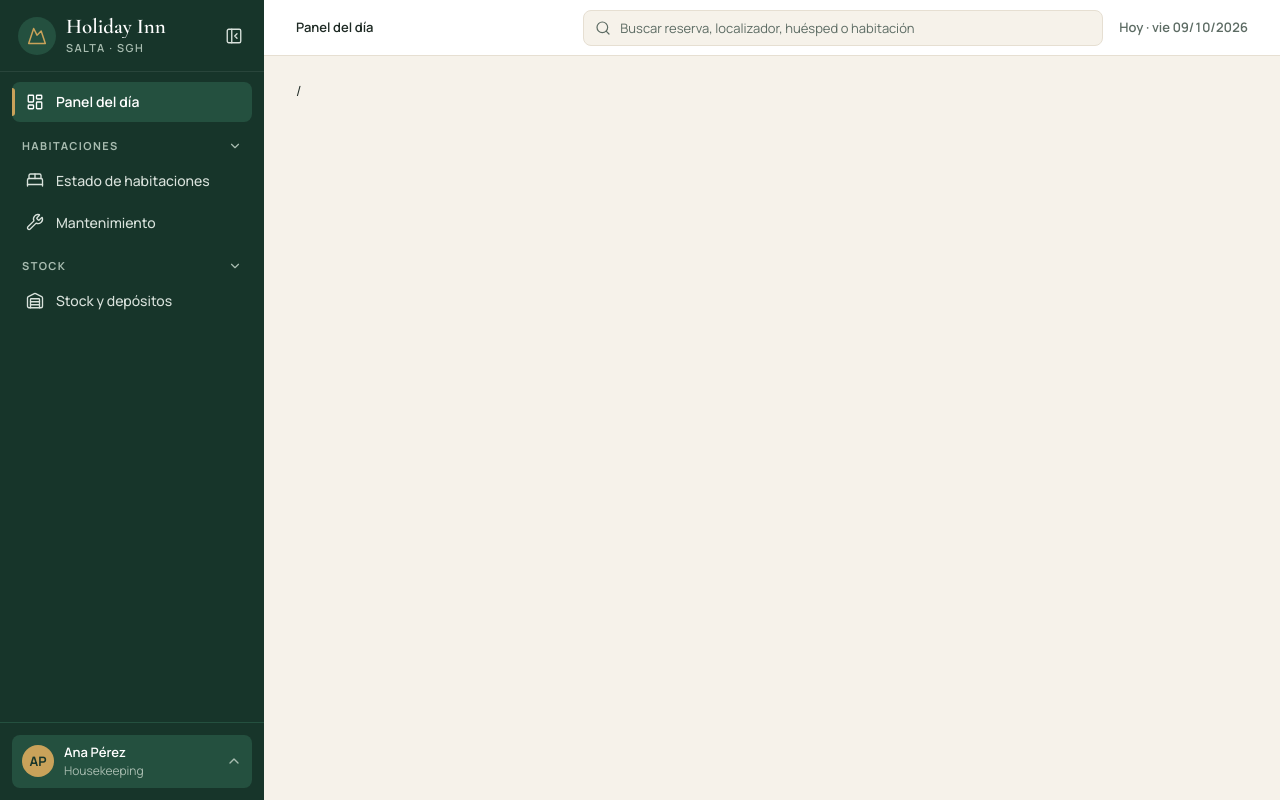
Test: Layout — tarjeta de usuario y menú de cuenta › se cierra con Escape y con click afuera
Click the button "AP Ana Pérez Housekeeping" at (132, 761), box [12,734,252,788]
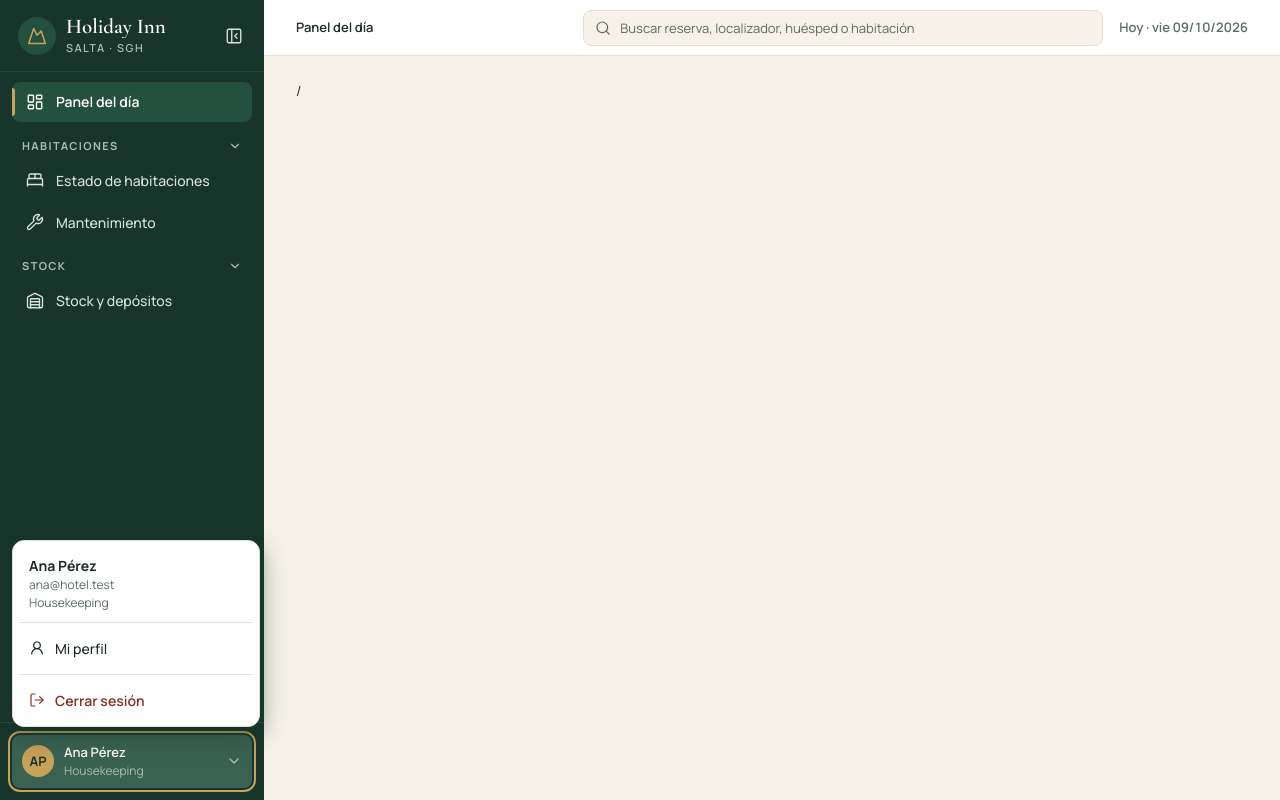
Press Escape
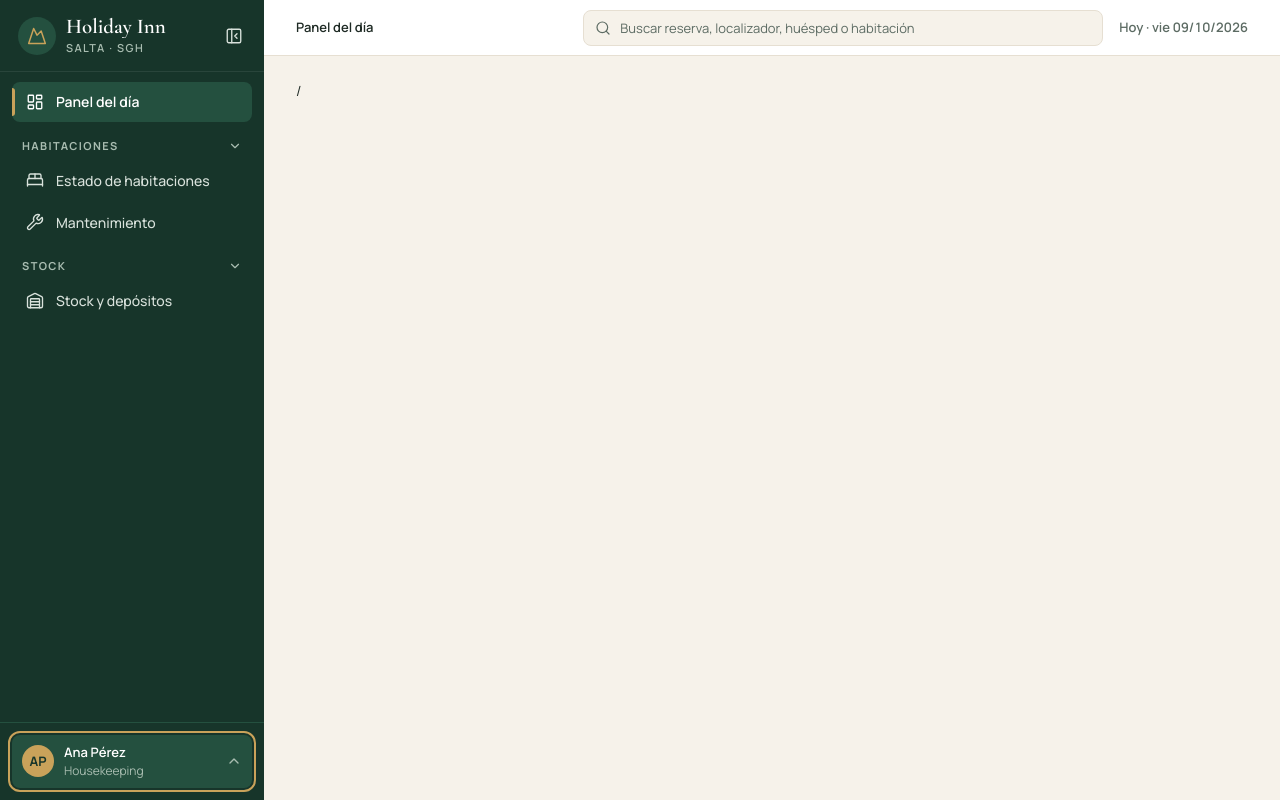
Now the menu is gone
Click the button "AP Ana Pérez Housekeeping" at (132, 761), box [12,734,252,788]
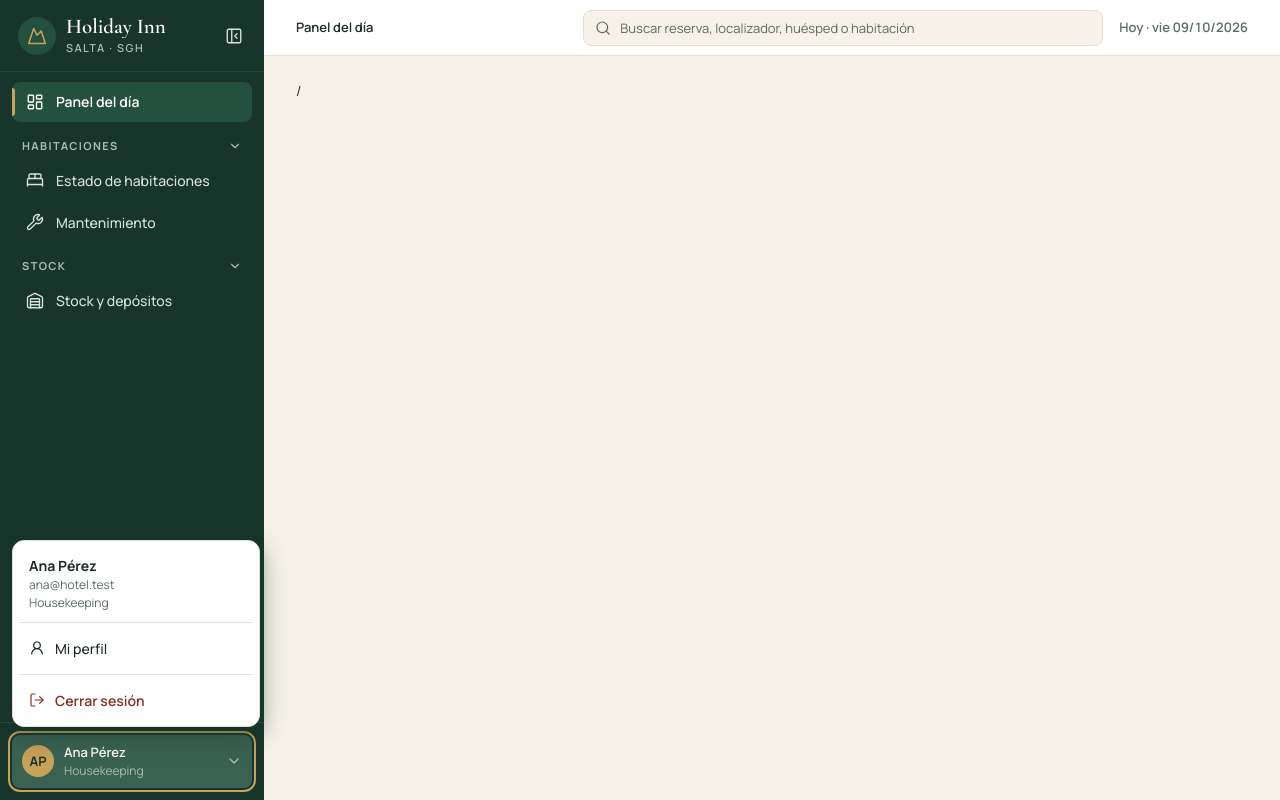
Now the menu is shown, box [12,540,260,726]
Click the text with test id "ubicacion" at (299, 90), box [296,81,301,100]
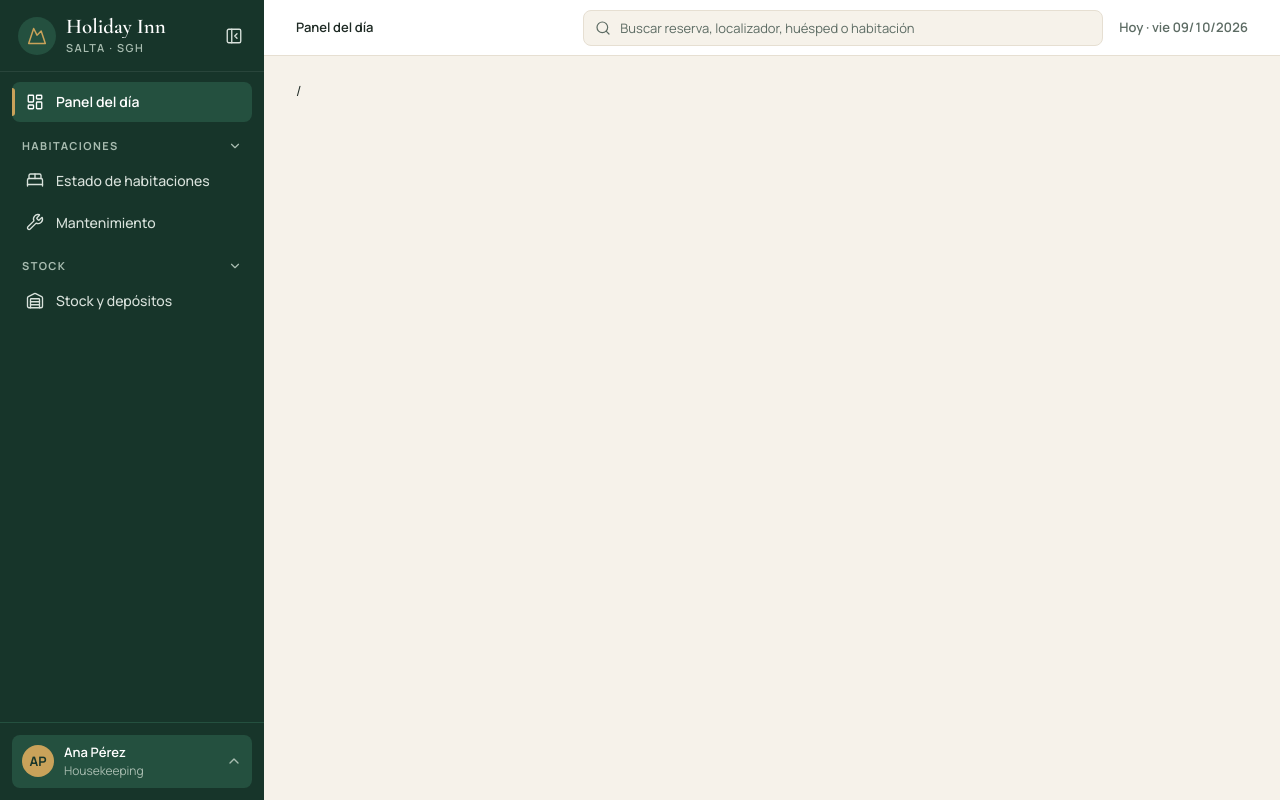
Now the menu is gone
